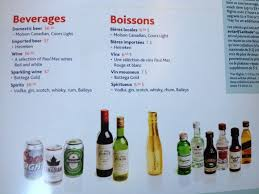not-coke: (90, 107, 138, 185)
